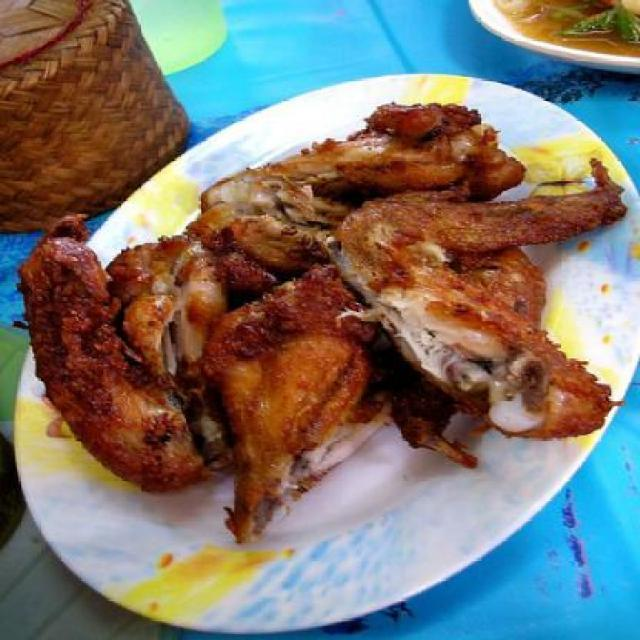Deep fried chicken wing: (47, 113, 590, 524)
